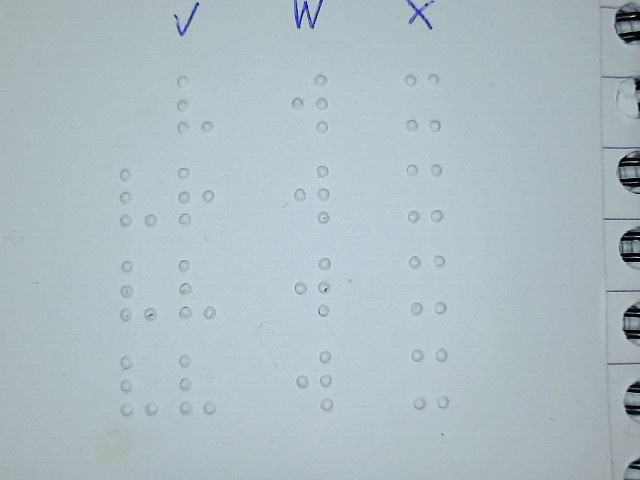V: (175, 72, 216, 135), (118, 166, 159, 229), (176, 258, 217, 321), (177, 352, 218, 415), (118, 354, 159, 417)
W: (289, 71, 330, 134), (291, 162, 332, 225), (292, 255, 333, 318), (294, 348, 335, 411)
X: (402, 71, 443, 134), (404, 160, 445, 223), (406, 253, 447, 316), (409, 347, 450, 410)
